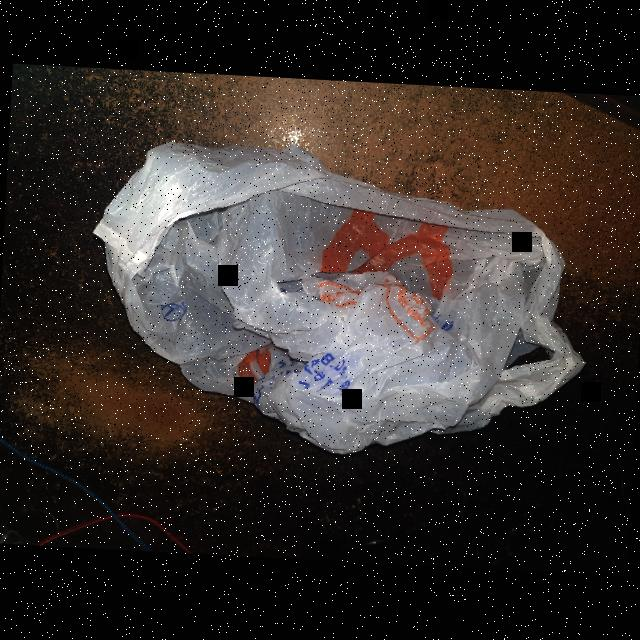plastic_bag: (78, 130, 606, 476)
